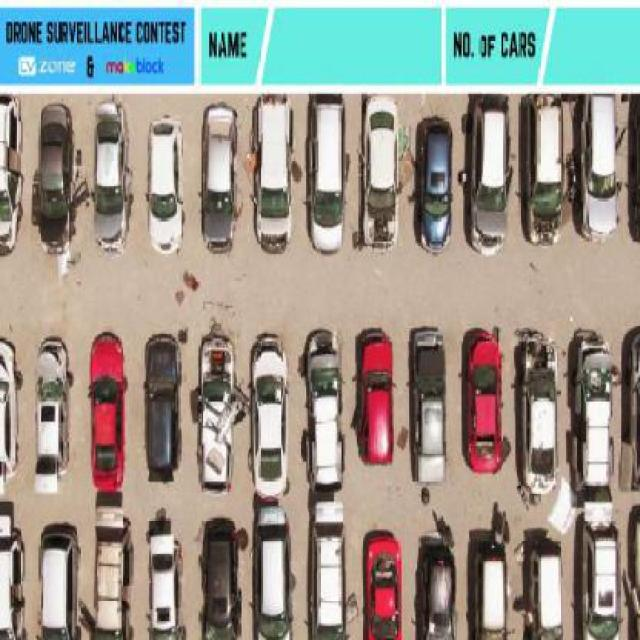car: (565, 329, 615, 497), (458, 321, 510, 473), (83, 328, 130, 492), (467, 98, 513, 260), (250, 91, 296, 252), (519, 332, 563, 498), (193, 328, 237, 493), (306, 328, 349, 495), (249, 335, 292, 497), (524, 94, 568, 252), (196, 103, 242, 253), (358, 92, 401, 252), (32, 102, 76, 258), (308, 91, 350, 254), (350, 326, 398, 466), (93, 98, 136, 254), (140, 332, 183, 486), (408, 326, 448, 487), (578, 90, 620, 243), (577, 504, 623, 639), (33, 336, 74, 482), (142, 116, 185, 255), (93, 499, 134, 637), (197, 513, 241, 640), (254, 501, 294, 640), (36, 520, 82, 640), (312, 493, 349, 640), (417, 113, 455, 249), (356, 527, 401, 640), (142, 514, 182, 640), (414, 529, 458, 640), (475, 535, 511, 639), (531, 537, 566, 640), (0, 98, 22, 260), (0, 498, 25, 638), (0, 334, 19, 487), (624, 325, 640, 493), (629, 93, 640, 246), (630, 504, 640, 640)
